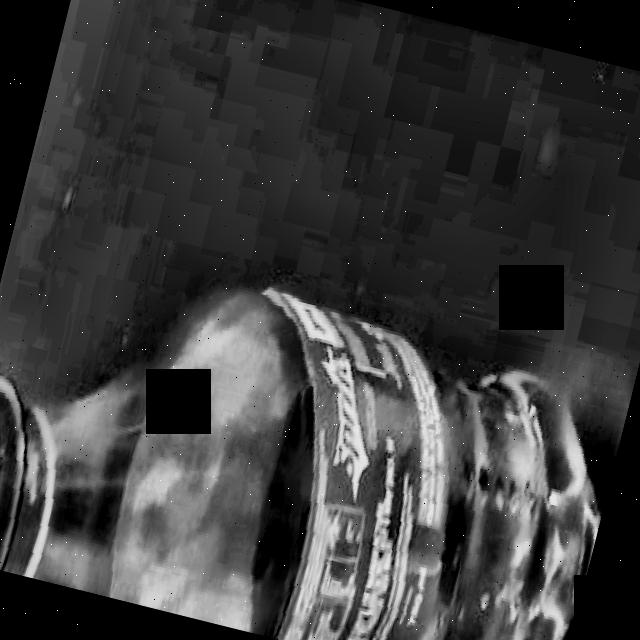bottle: (0, 284, 604, 640)
